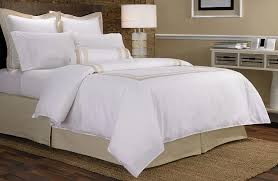bed-matress: (1, 57, 249, 137)
